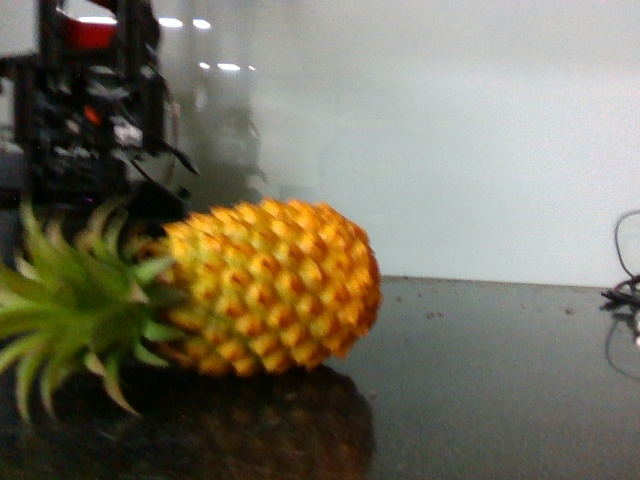pineapple: (1, 195, 387, 413)
